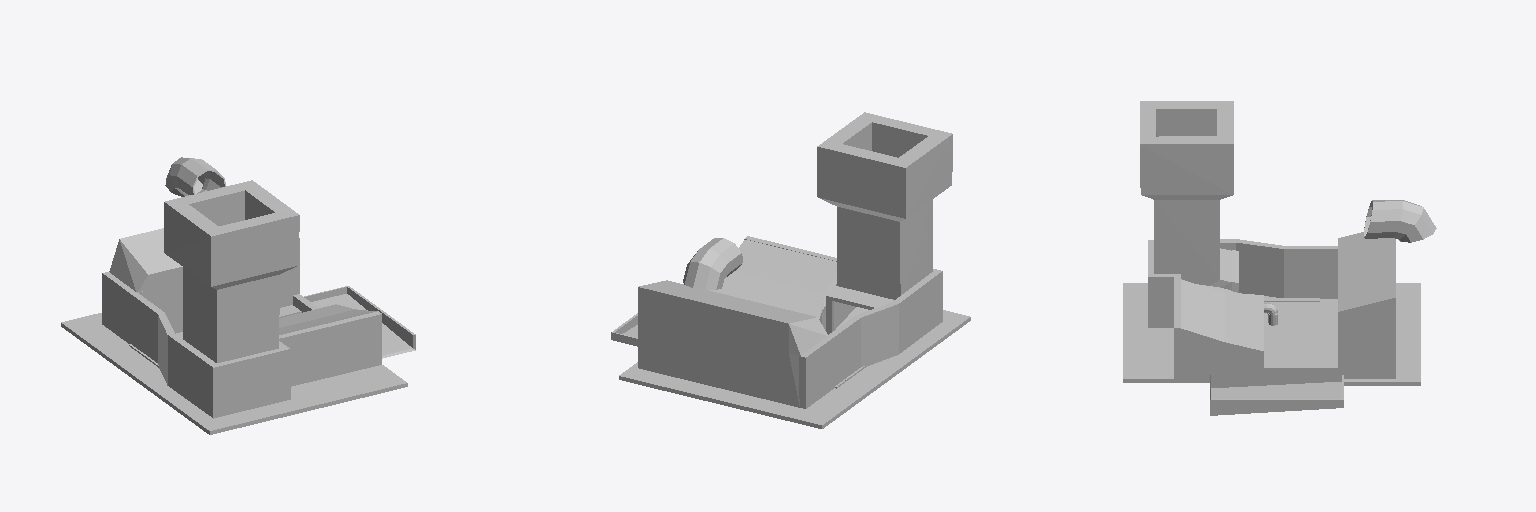
File: corridor_new_collision.obj
The picture shows the model from 3 angles: view 1: azimuth 30°, elevation 25°; view 2: azimuth 150°, elevation 25°; view 3: azimuth 270°, elevation 25°; orthographic projection.
Visible parts, largest first — view 1: h, Object02, Object03, Box01, Line01; view 2: h, Object02, Object03, Line01, Box01; view 3: h, Object02, Object03, Box01, Line01.
Boxes of the visible parts, x1=… form: h: x1=102, y1=228, x2=381, y2=418; Object02: x1=164, y1=180, x2=299, y2=362; Object03: x1=61, y1=313, x2=407, y2=434; Box01: x1=304, y1=286, x2=415, y2=358; Line01: x1=165, y1=157, x2=225, y2=196; h: x1=638, y1=236, x2=942, y2=408; Object02: x1=817, y1=112, x2=952, y2=334; Object03: x1=619, y1=310, x2=970, y2=428; Line01: x1=683, y1=238, x2=742, y2=289; Box01: x1=611, y1=313, x2=637, y2=346; h: x1=1148, y1=232, x2=1395, y2=378; Object02: x1=1140, y1=101, x2=1238, y2=292; Object03: x1=1123, y1=283, x2=1420, y2=385; Box01: x1=1210, y1=375, x2=1343, y2=415; Line01: x1=1364, y1=200, x2=1436, y2=242.
Bounding box in the file's own units: 15.06 × 11.44 × 16.39.